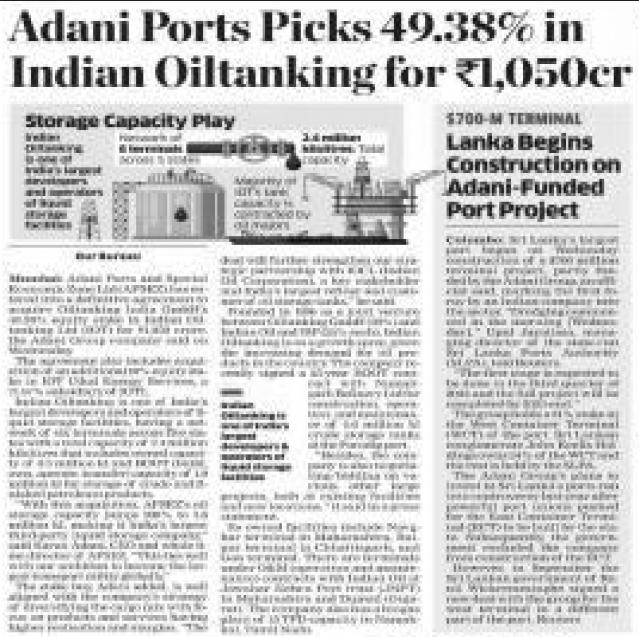paper: (0, 1, 639, 637)
